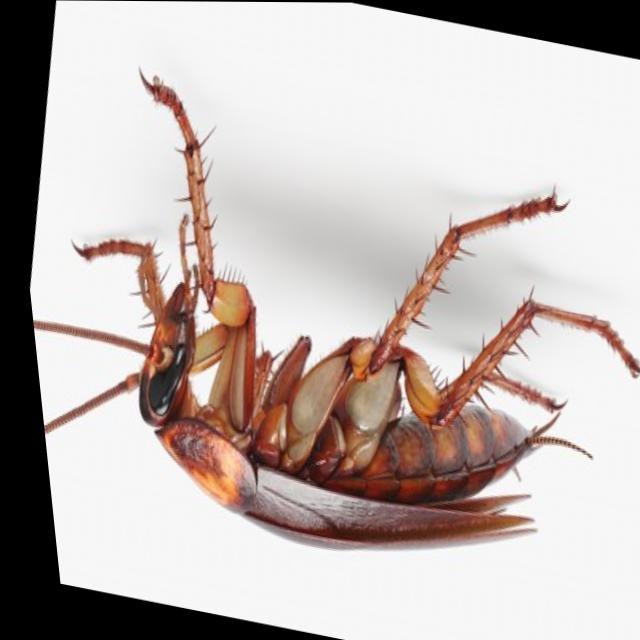Cockroach: (3, 35, 640, 626)
